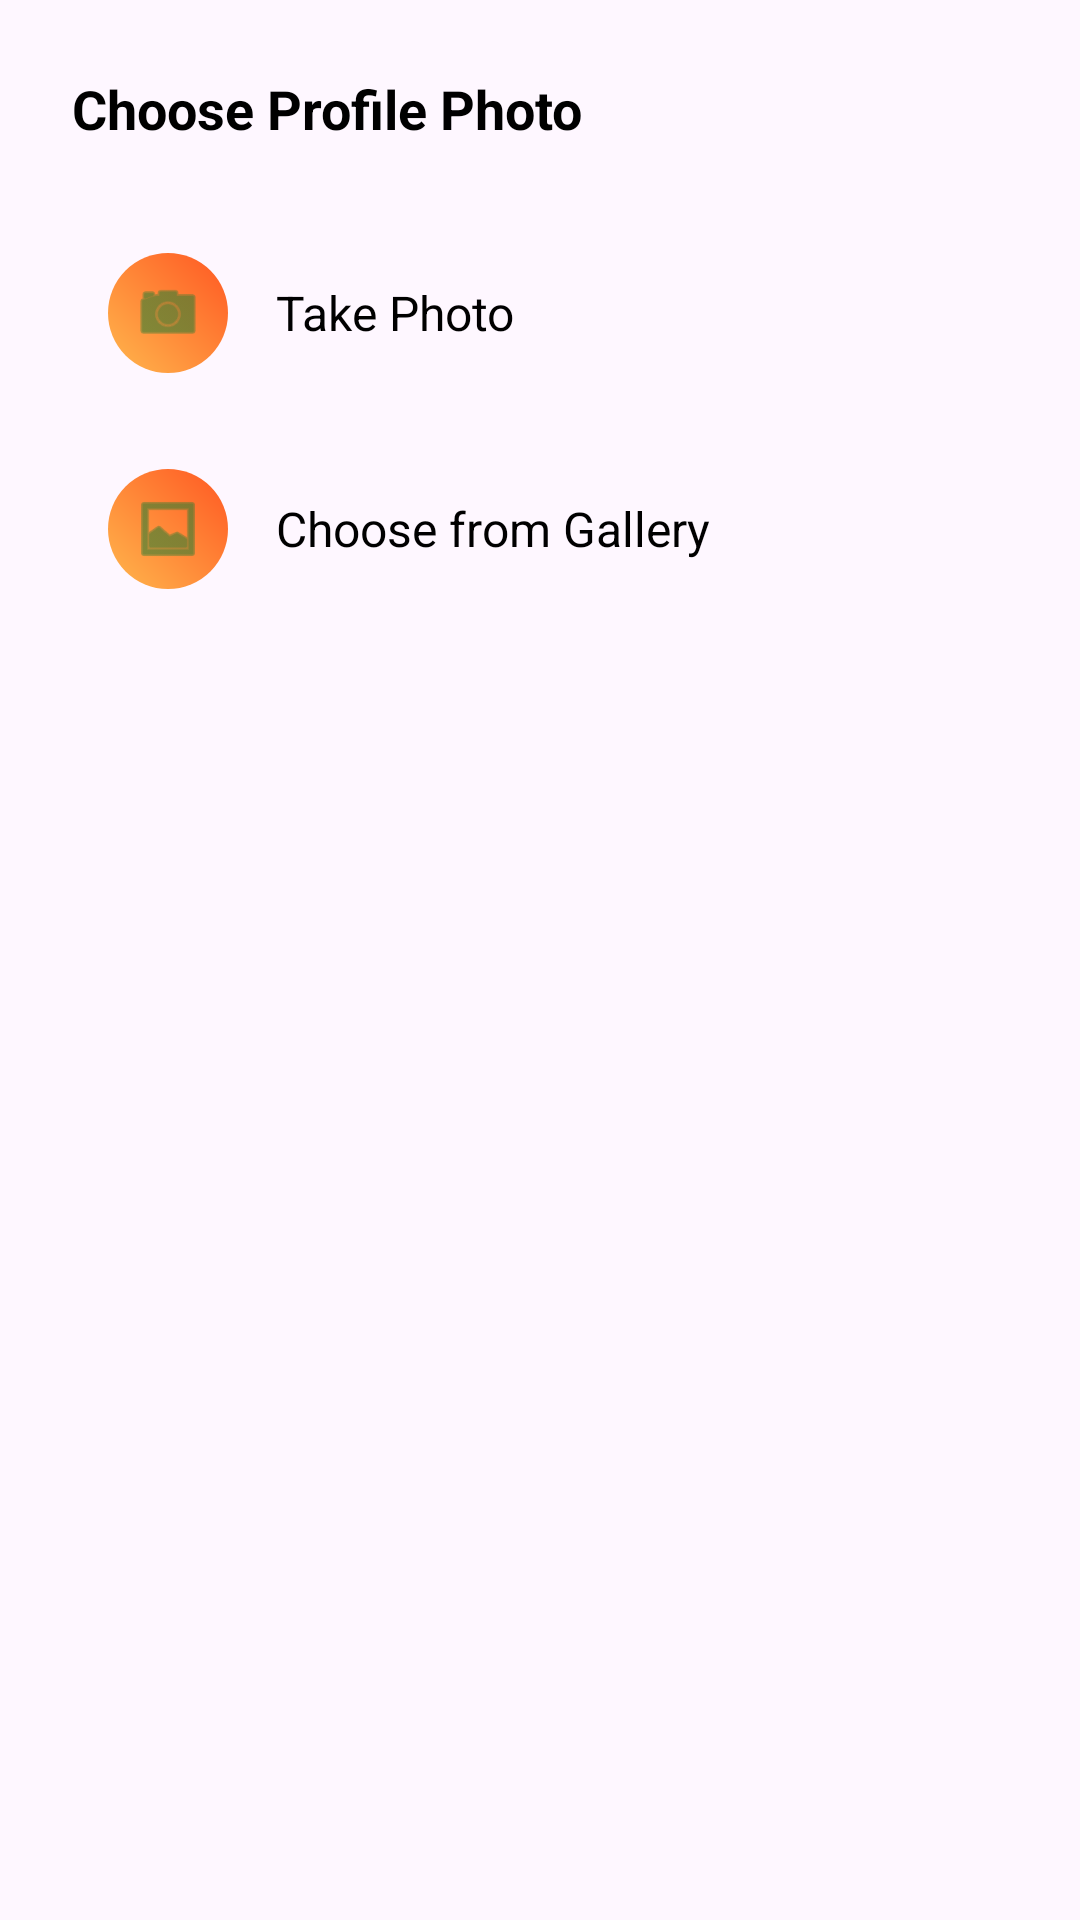

Where icons sit on this 1080x1920 app screen, as (x1, y1, x2, y2):
camera: (108, 253, 228, 373)
